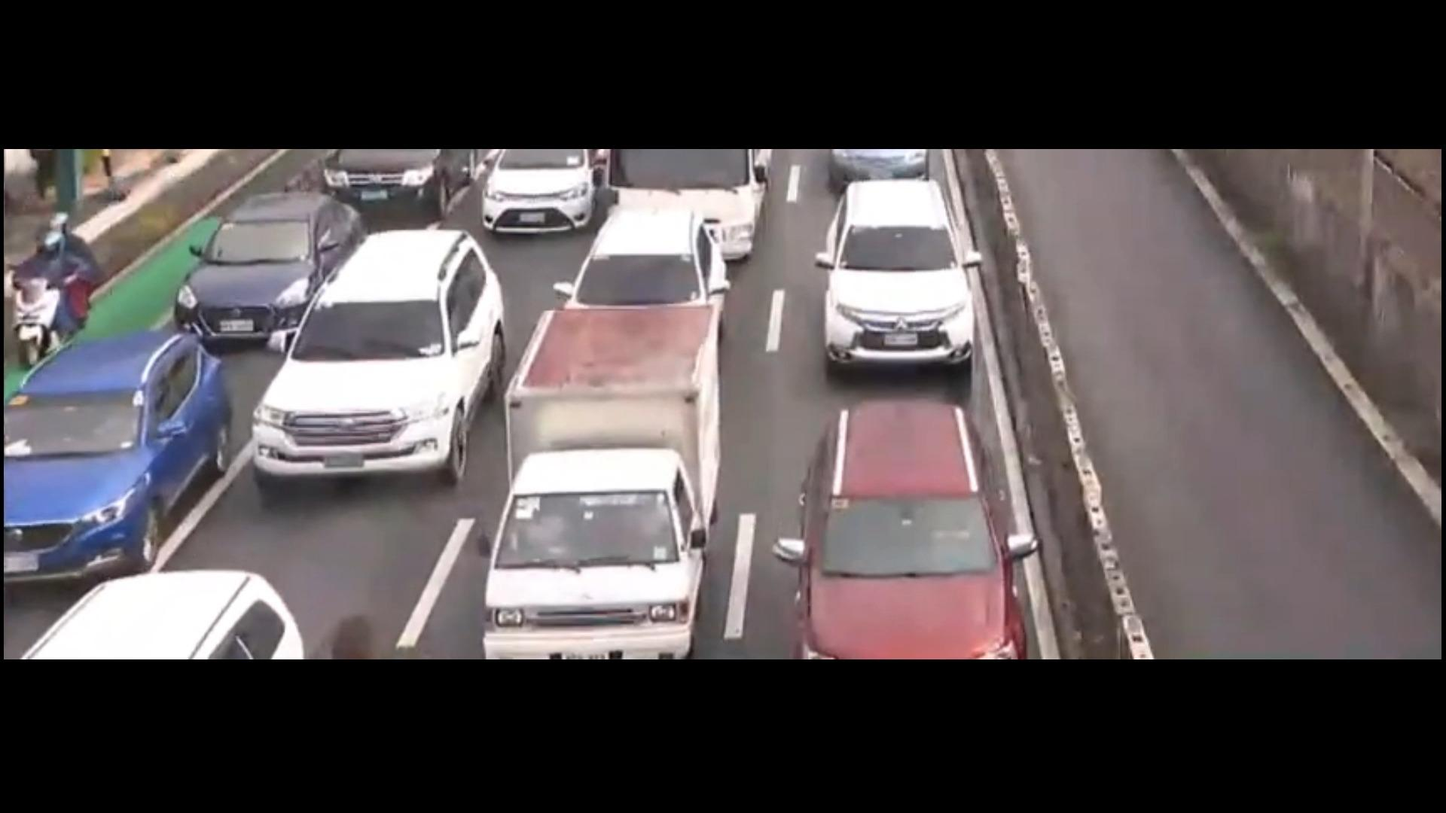Motorcycle: (0, 194, 117, 375)
SUV: (236, 219, 511, 510), (780, 382, 1040, 675), (806, 175, 998, 393)
Sedan: (0, 320, 245, 591), (178, 179, 371, 361), (548, 202, 755, 313), (484, 140, 599, 241)
Truck: (446, 285, 731, 672)
